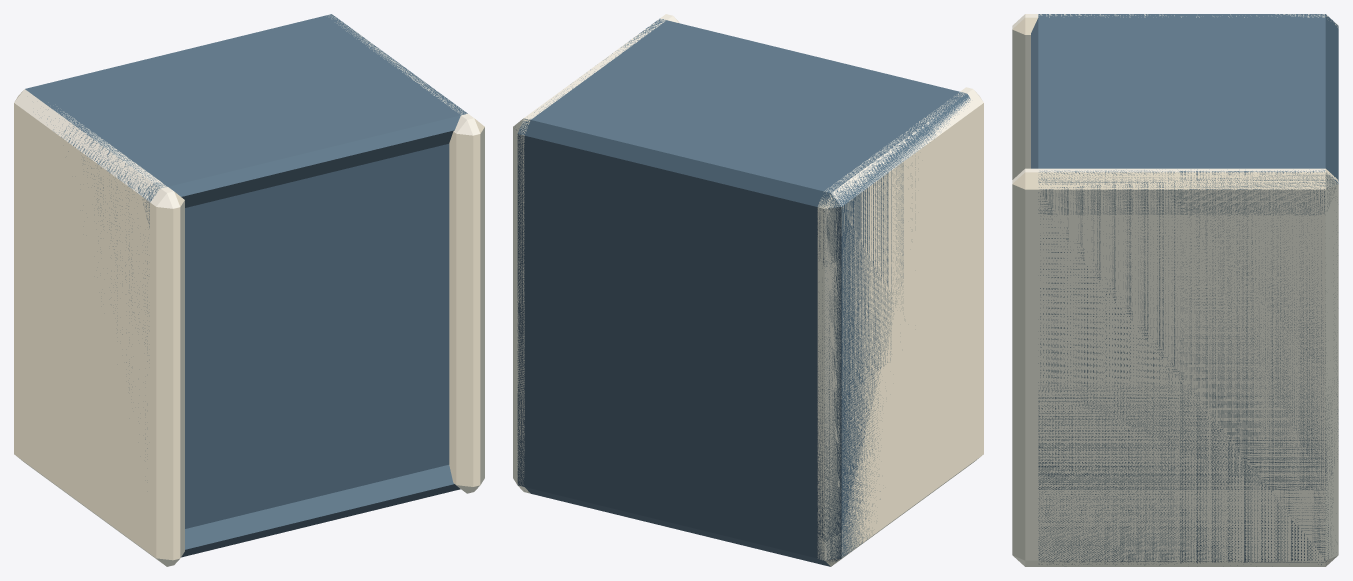
Rendered from LockWall_Tile.gltf.
3 views of the same model, side by side, from view 1: azimuth 30°, elevation 25°; view 2: azimuth 150°, elevation 25°; view 3: azimuth 270°, elevation 25° (orthographic). The views are drawn at different scales.
Visible parts, largest first — view 1: LockWall_Tile_baked; view 2: LockWall_Tile_baked; view 3: LockWall_Tile_baked.
Boxes of the visible parts, box(x1,y1,x2,y2) form: LockWall_Tile_baked: box(14, 14, 484, 566); LockWall_Tile_baked: box(513, 14, 983, 566); LockWall_Tile_baked: box(1012, 14, 1338, 566).
Bounding box in the file's own units: 0.92 × 1 × 0.75.
